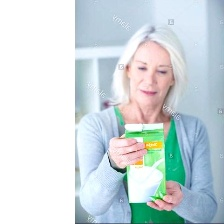carton: (124, 120, 167, 208)
